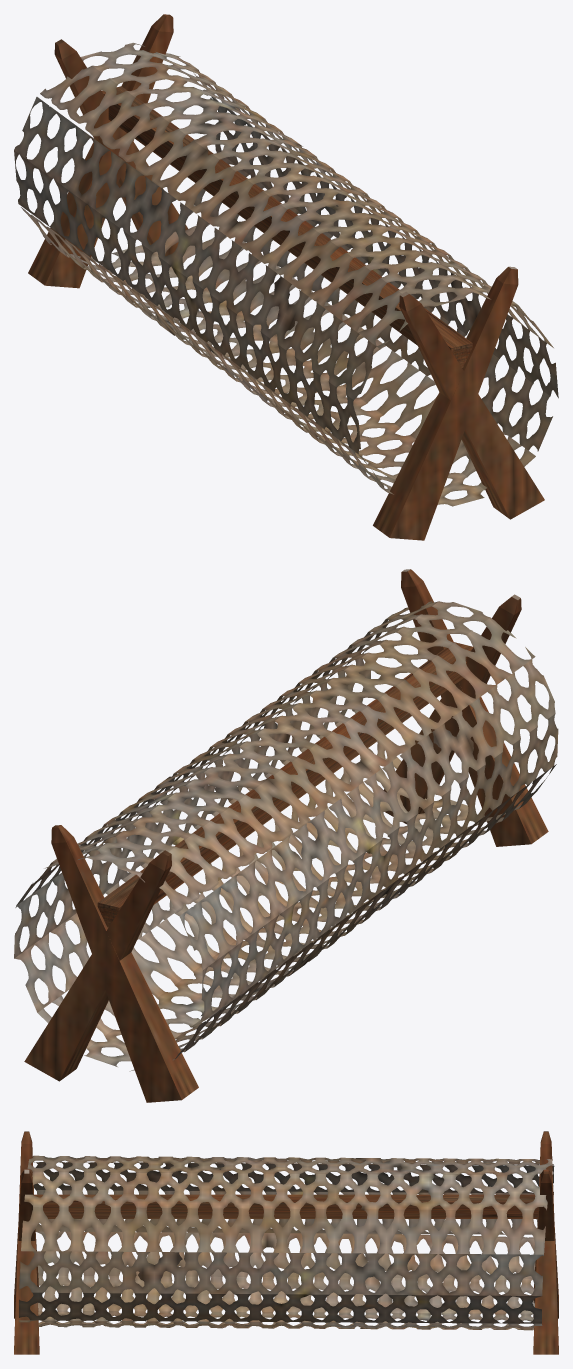
The model's file is wall.dae.
3 views of the same model, one above another, from view 1: azimuth 30°, elevation 25°; view 2: azimuth 150°, elevation 25°; view 3: azimuth 270°, elevation 25° (orthographic). The views are drawn at different scales.
Visible parts, largest first — view 1: wall; view 2: wall; view 3: wall.
Boxes of the visible parts, x1,y1,x2,y2 form: wall: [14, 14, 558, 540]; wall: [14, 569, 558, 1102]; wall: [14, 1131, 558, 1354].
Bounding box in the file's own units: 4.93 × 15.59 × 5.79.
